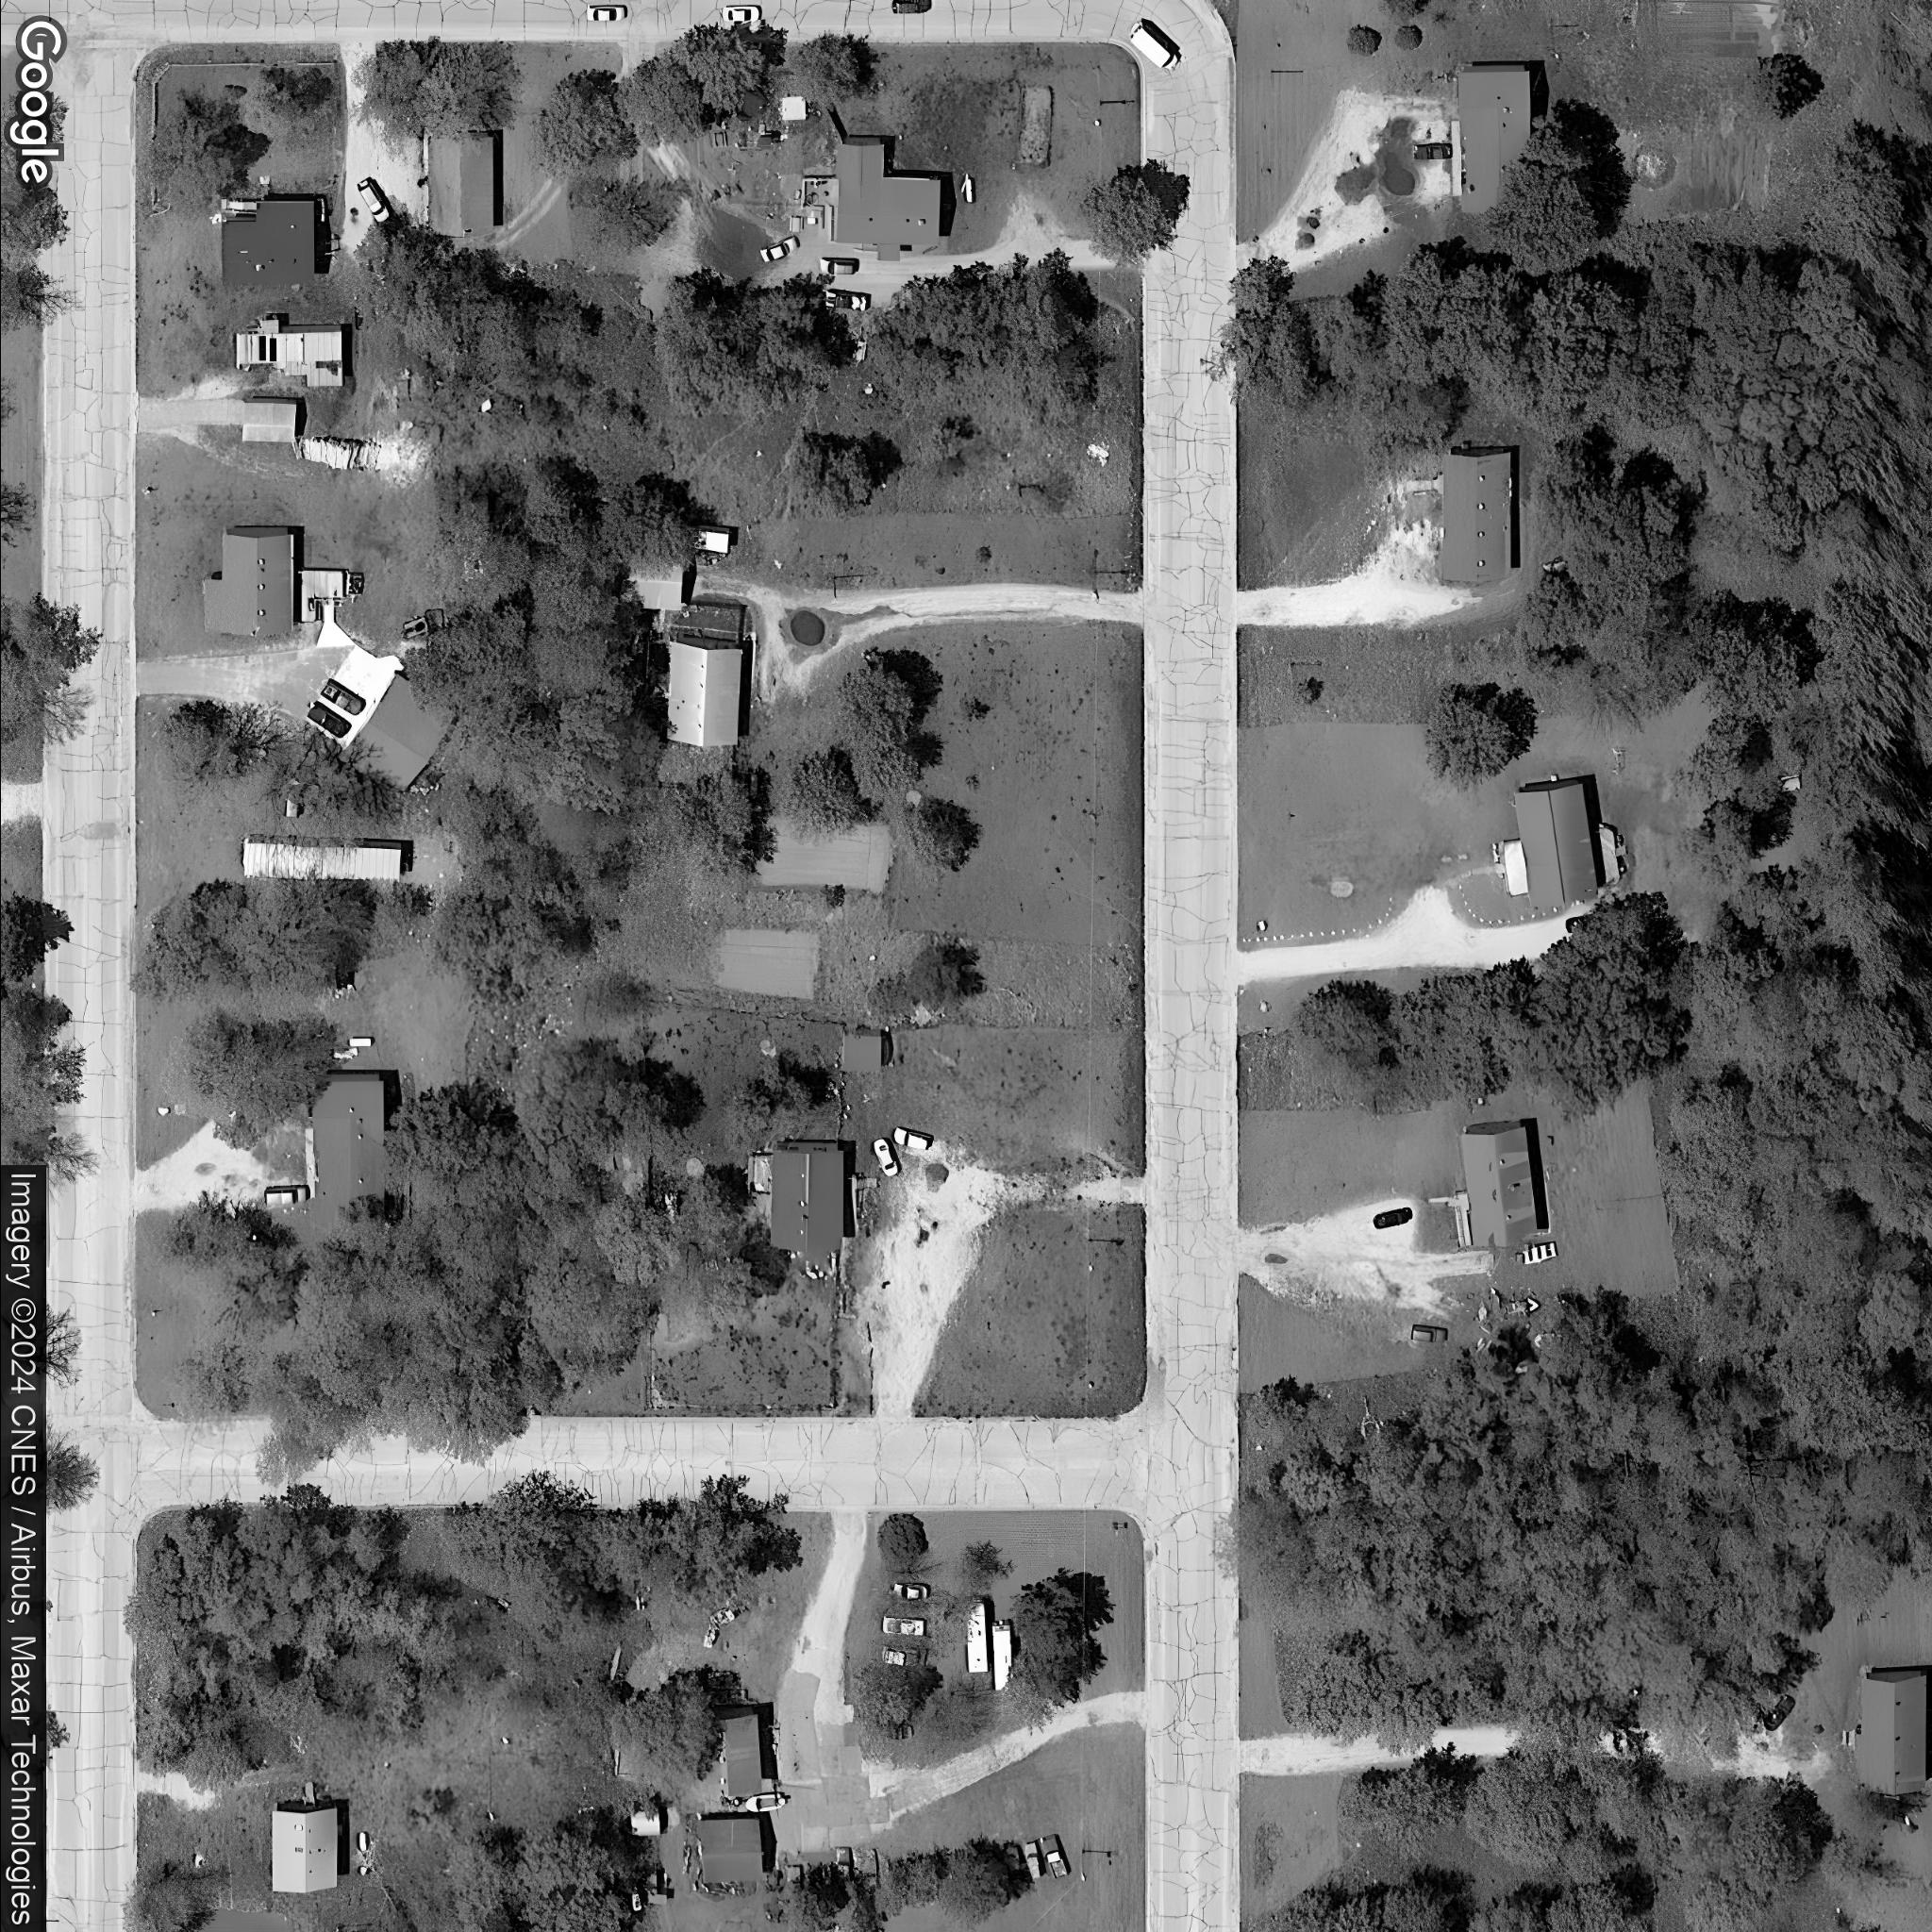Garage: (336, 674, 453, 794), (423, 134, 492, 237), (724, 1713, 761, 1798), (617, 563, 681, 609), (239, 400, 297, 444)
House: (832, 134, 939, 262), (1513, 780, 1598, 908), (311, 1074, 384, 1223), (1458, 64, 1530, 212), (202, 527, 294, 639), (1460, 1123, 1539, 1249), (1442, 448, 1509, 580), (665, 635, 741, 748), (768, 1143, 844, 1254), (218, 200, 315, 287), (1863, 1670, 1925, 1798), (235, 317, 343, 386), (269, 1805, 338, 1895), (695, 1819, 764, 1882)
Propane: (356, 1829, 370, 1851), (962, 180, 975, 203), (347, 1037, 373, 1047)
Trailer: (241, 839, 402, 883), (961, 1598, 987, 1675), (991, 1622, 1012, 1690)
